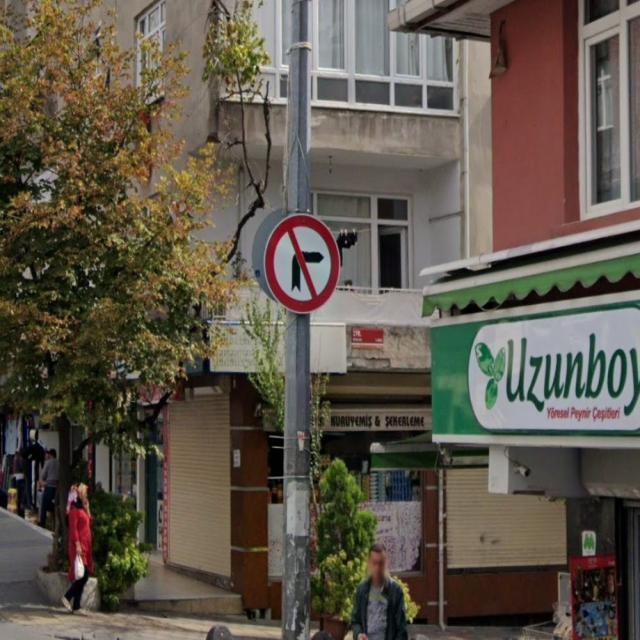sagadonulmez: (264, 212, 340, 314)
